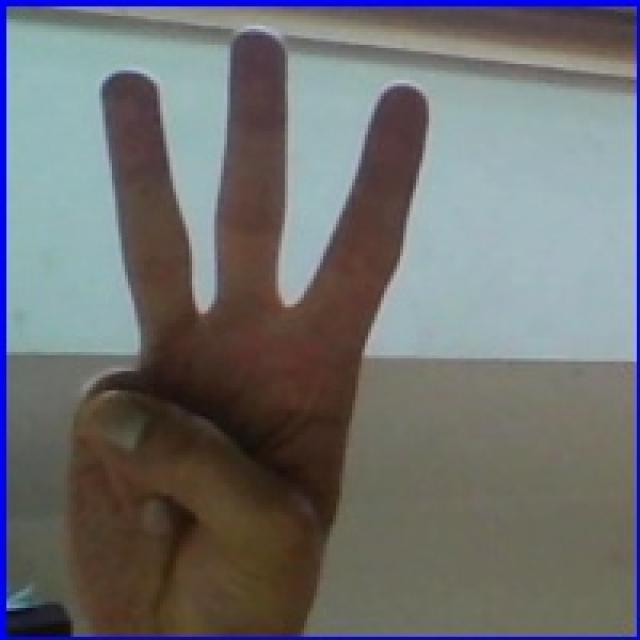Letra-W: (44, 25, 443, 625)
